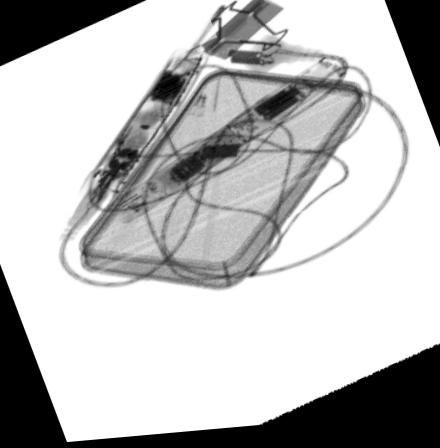Baton: (106, 60, 348, 228)
